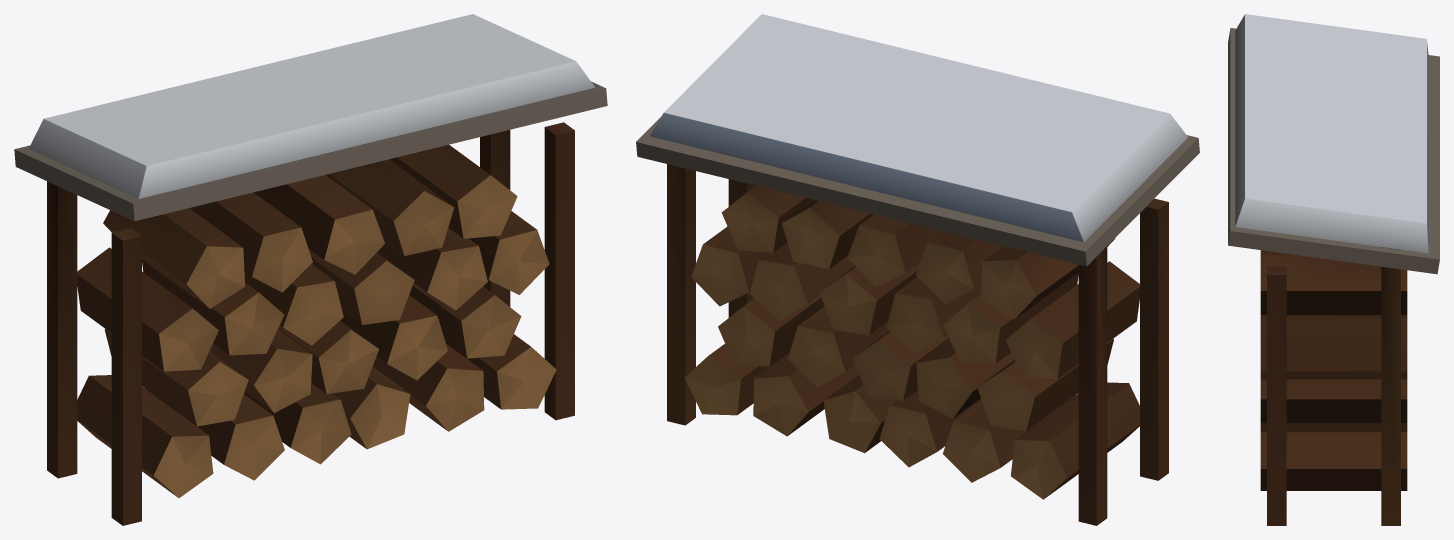
Rendered from Alpine_Woodpile.fbx.
3 renders of one model, left to right at view 1: azimuth 30°, elevation 25°; view 2: azimuth 150°, elevation 25°; view 3: azimuth 270°, elevation 25°, orthographic. The views are drawn at different scales.
Visible parts, largest first — view 1: Alpine_Woodpile; view 2: Alpine_Woodpile; view 3: Alpine_Woodpile.
Boxes of the visible parts, <box> form: Alpine_Woodpile: <box>14,14,607,525</box>; Alpine_Woodpile: <box>636,14,1199,525</box>; Alpine_Woodpile: <box>1228,14,1439,525</box>.
Bounding box in the file's own units: 2.95 × 2.18 × 1.3.
